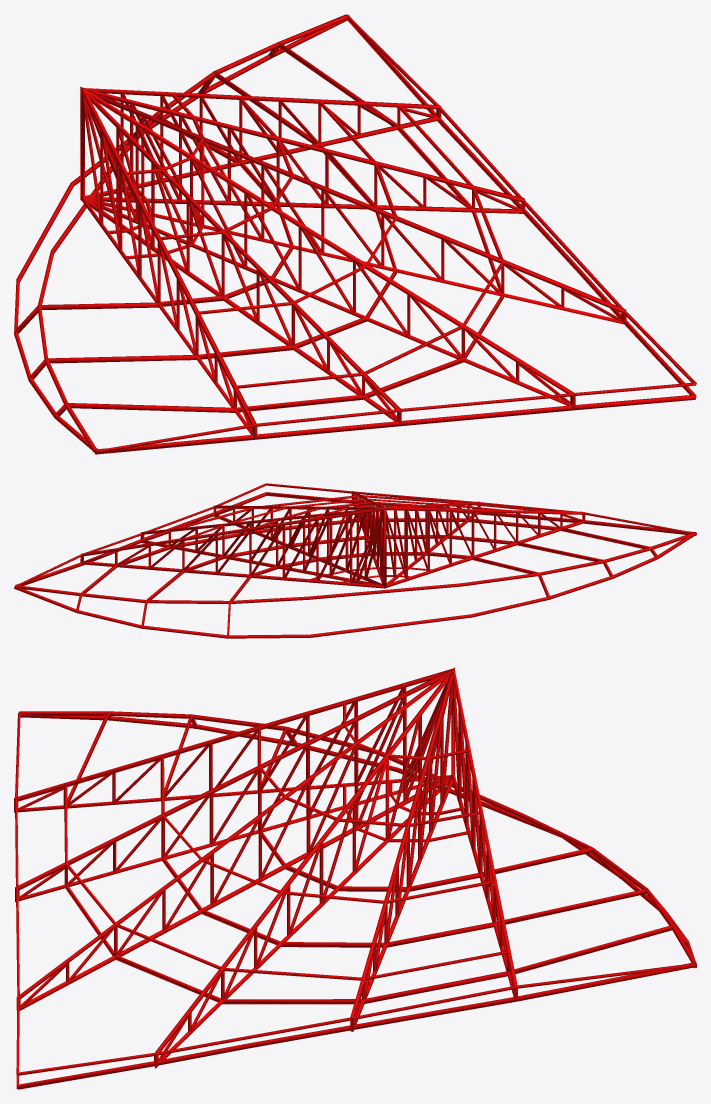
Rendered from L1_truss_A_merged.fbx.
3 views of the same model, one above another, from view 1: azimuth 30°, elevation 25°; view 2: azimuth 150°, elevation 25°; view 3: azimuth 270°, elevation 25° (orthographic). The views are drawn at different scales.
Visible parts, largest first — view 1: L1_truss_A_model_merged_geo; view 2: L1_truss_A_model_merged_geo; view 3: L1_truss_A_model_merged_geo.
Boxes of the visible parts, left/top/right/bottom form: L1_truss_A_model_merged_geo: left=14, top=14, right=696, bottom=454; L1_truss_A_model_merged_geo: left=14, top=483, right=696, bottom=638; L1_truss_A_model_merged_geo: left=14, top=667, right=696, bottom=1089.
Bounding box in the file's own units: 5998 × 2317 × 6053.
